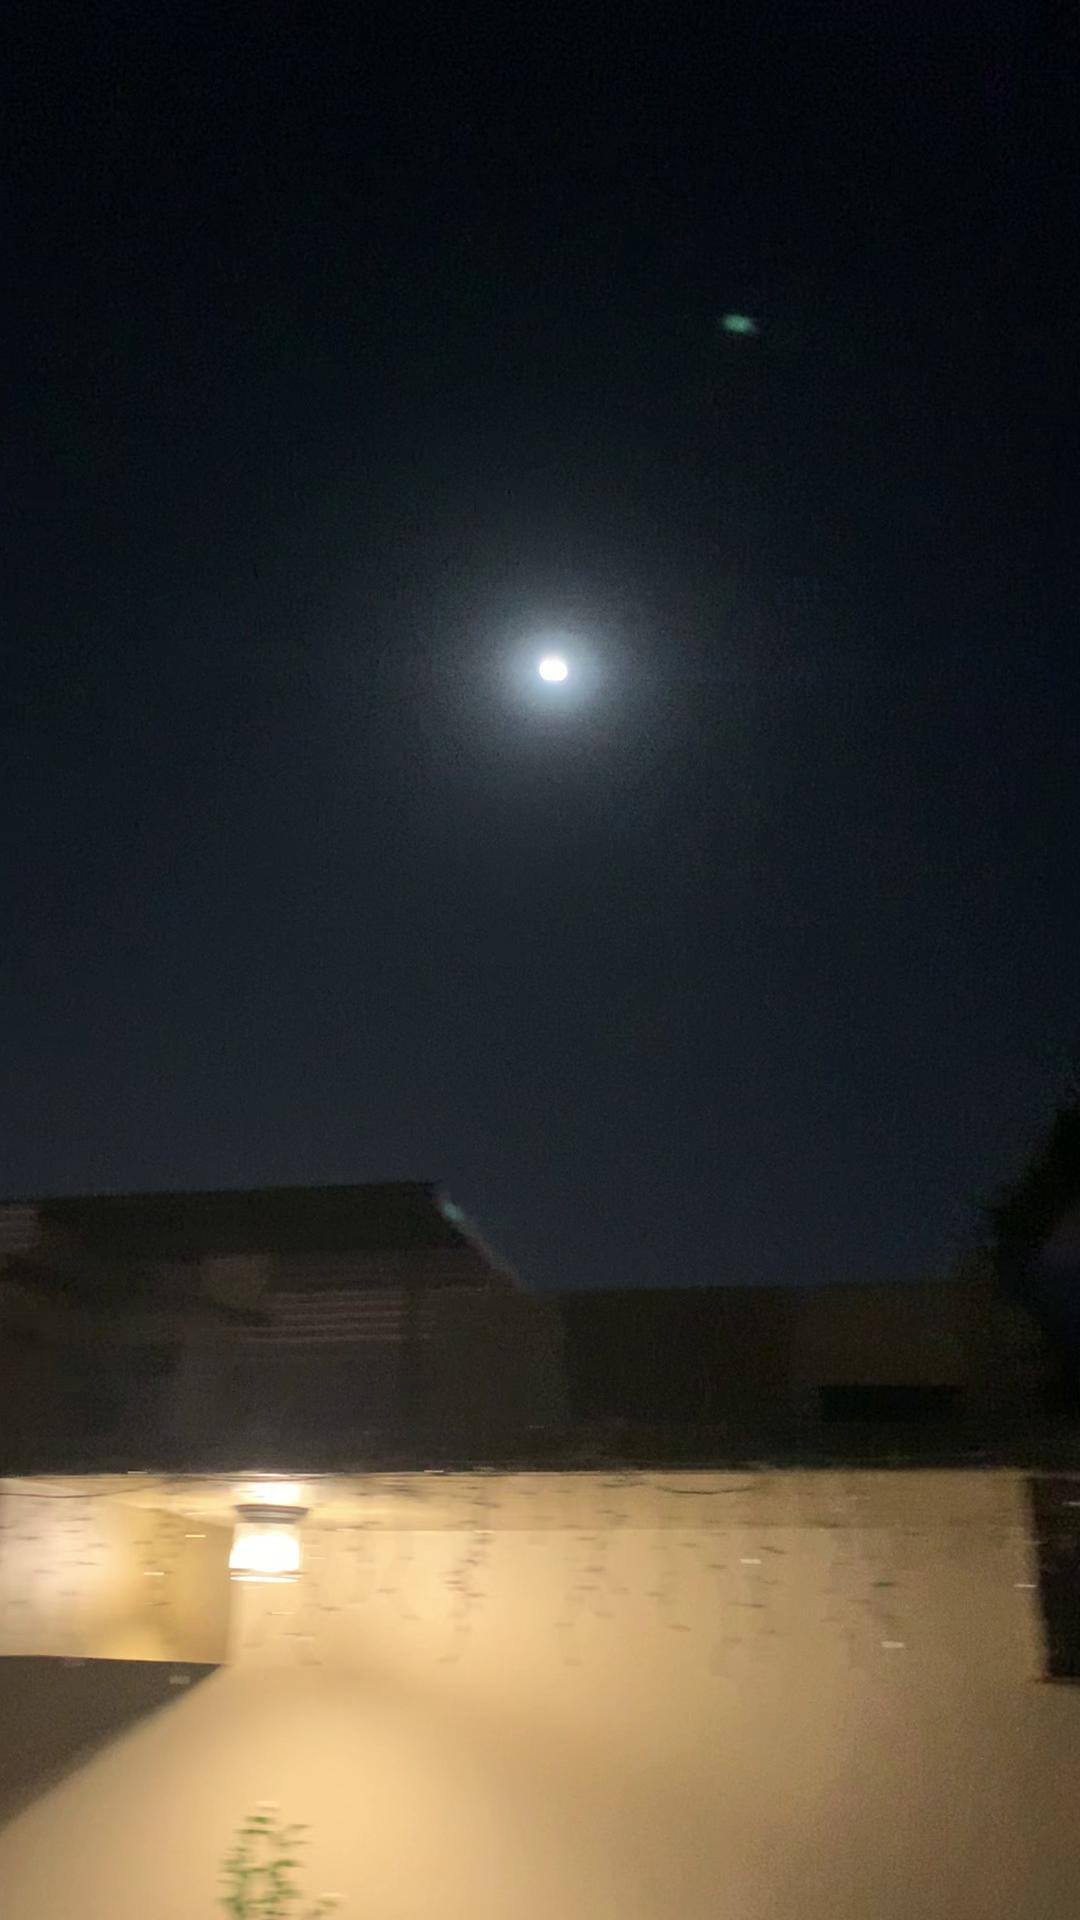moon: (521, 632, 608, 711)
